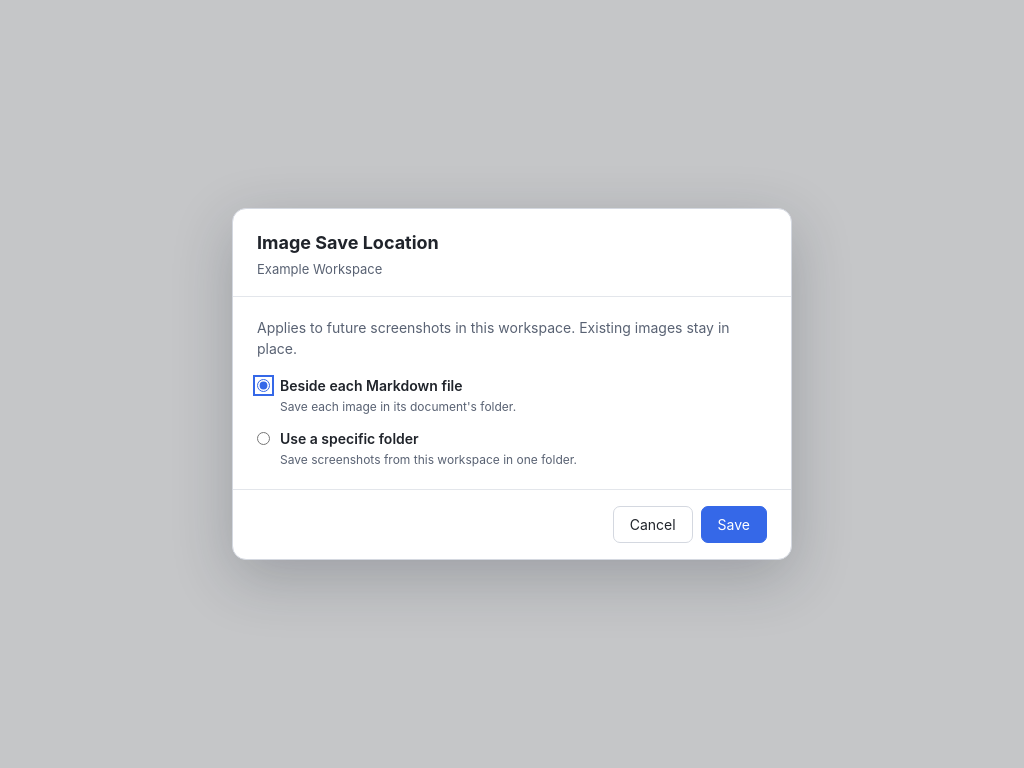
Test: WorkspaceImageSettingsDialog › reports a translated chooser error and never saves an unusable folder: failure
The image size is (1024, 768).
Click the radio button labelled "Use a specific folder": (264, 438) [257, 432, 270, 445]
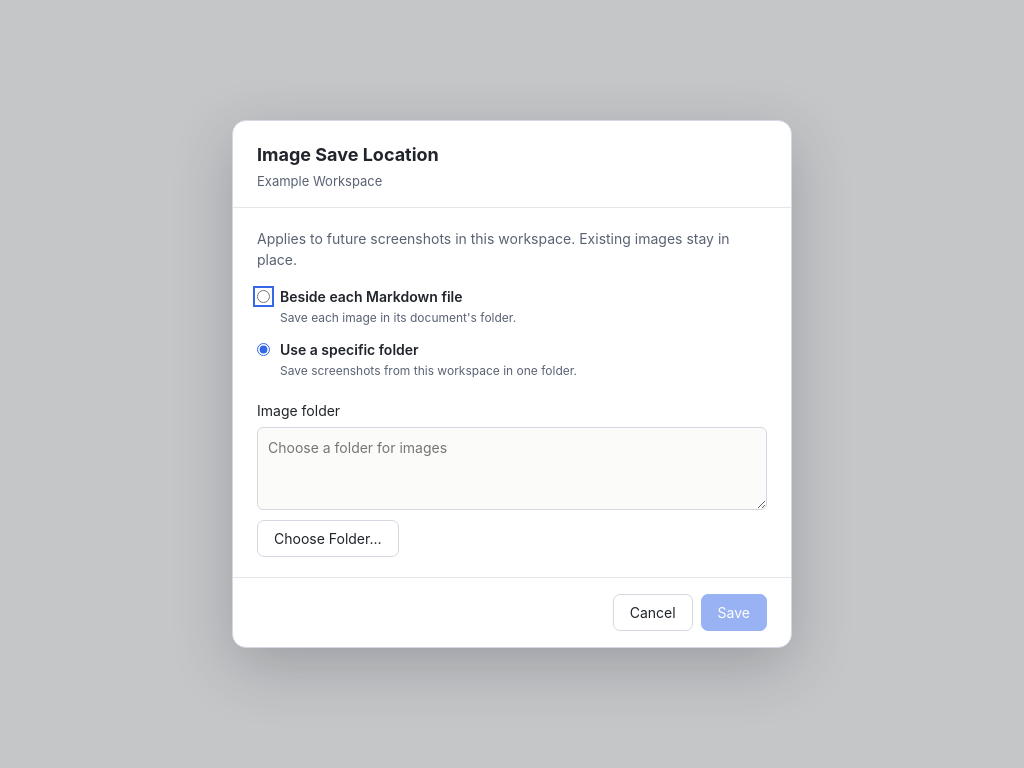
Click the button "Choose Folder…": (328, 539) [257, 520, 398, 557]
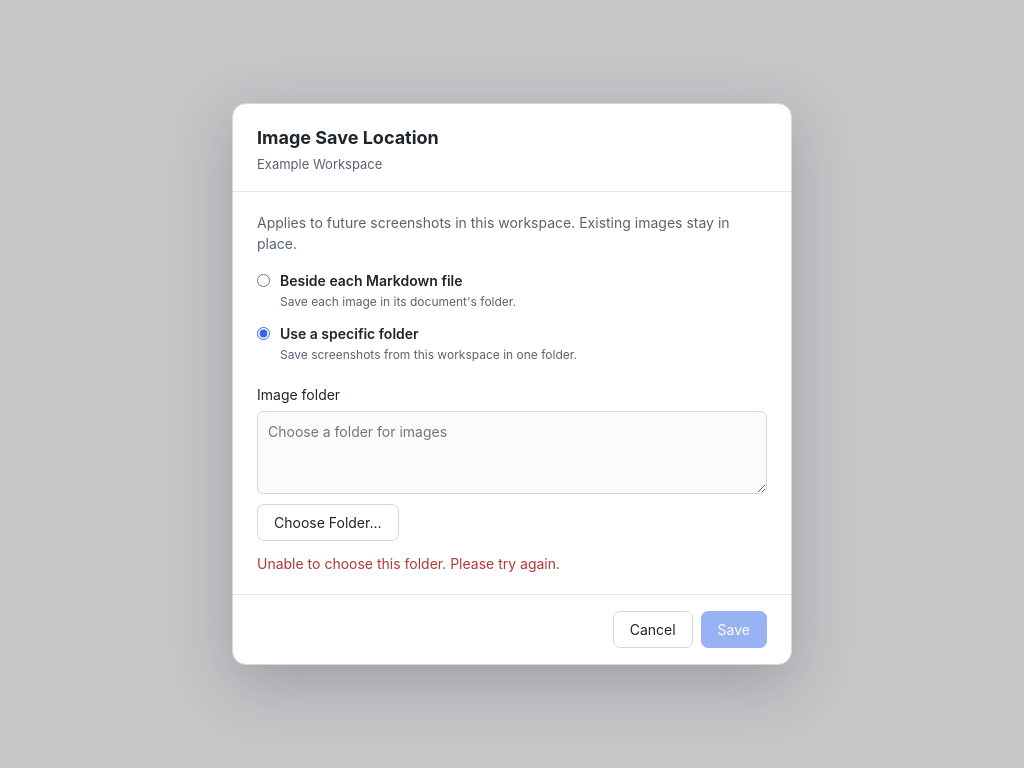
Check: the button "Save" is disabled, box [701, 611, 767, 648]
Check: the button "Choose Folder…" is enabled, box [257, 504, 398, 541]
Check: the message reads "Unable to choose this folder. Please try again.", box [257, 555, 560, 572]
